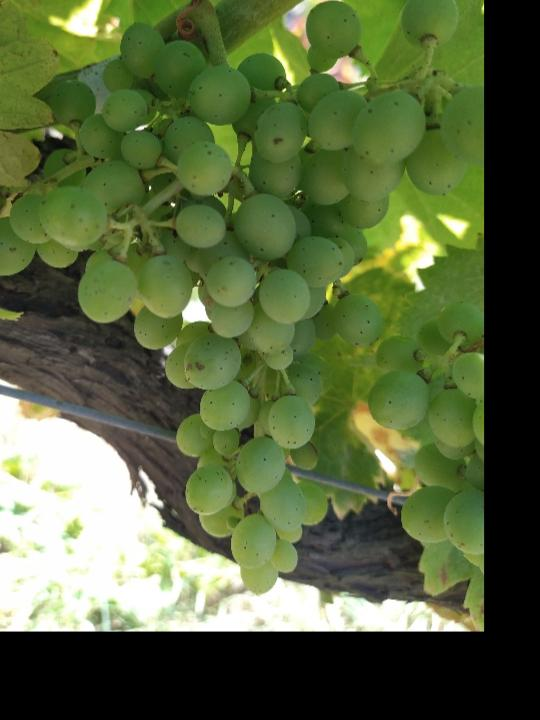grape: (0, 0, 477, 599)
